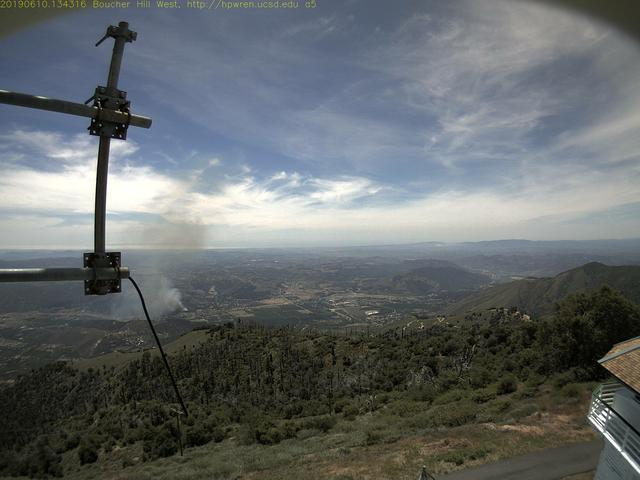smoke: (128, 183, 212, 318)
